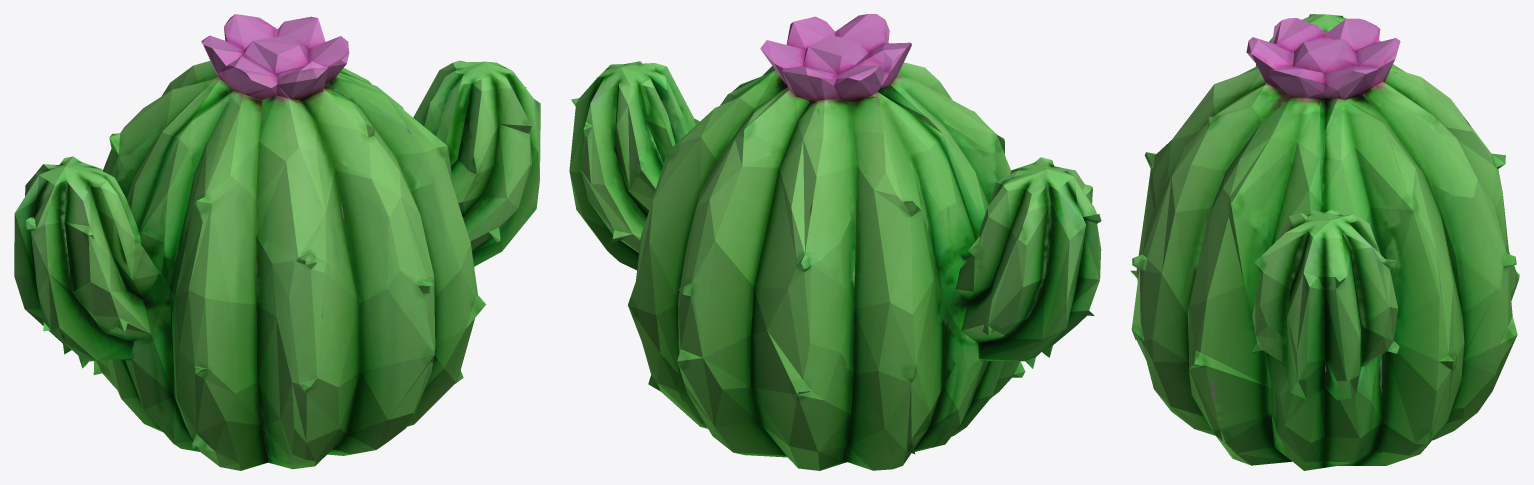
Rendered from cactus.glb.
3 views of the same model, side by side, from view 1: azimuth 30°, elevation 25°; view 2: azimuth 150°, elevation 25°; view 3: azimuth 270°, elevation 25° (orthographic).
Visible parts, largest first — view 1: tmp0k7wlc_g.ply; view 2: tmp0k7wlc_g.ply; view 3: tmp0k7wlc_g.ply.
Part boxes in pixels (x1,y1,x2,y2): tmp0k7wlc_g.ply: [14, 14, 540, 470]; tmp0k7wlc_g.ply: [569, 14, 1101, 470]; tmp0k7wlc_g.ply: [1130, 14, 1519, 470].
Bounding box in the file's own units: 1.98 × 1.47 × 1.3.
Materials: 1 (1 with a texture image).
